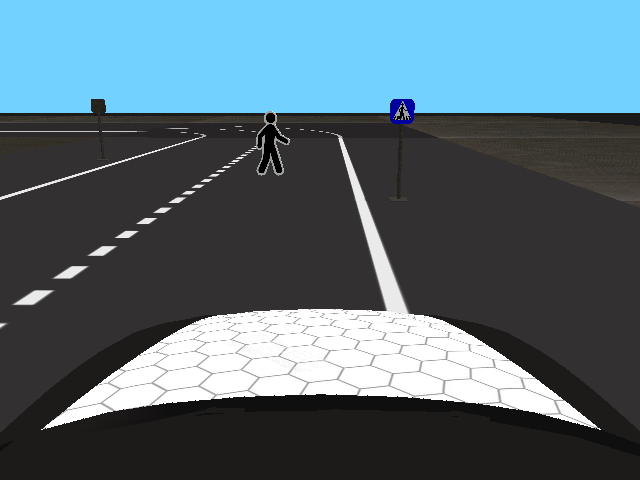pedestrian: (255, 111, 291, 177)
pedestrian_cross: (389, 99, 417, 125)
